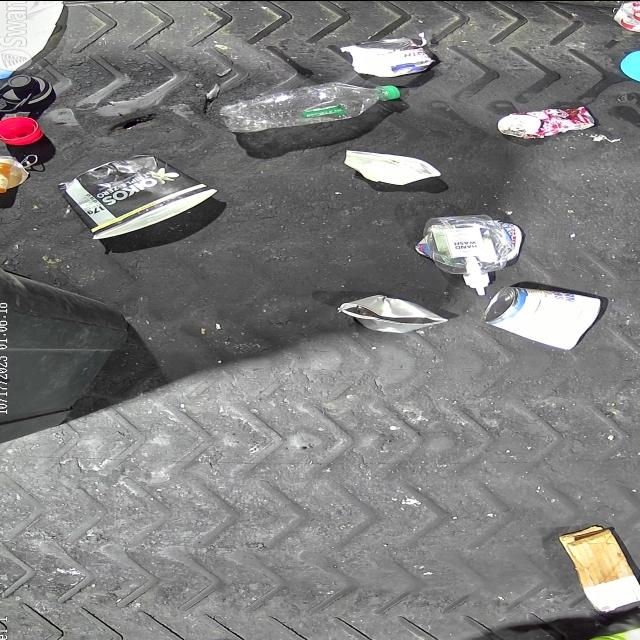can: (481, 284, 603, 350), (336, 294, 448, 333), (497, 104, 596, 138), (348, 38, 432, 76), (610, 0, 640, 36)
milk_jug: (0, 0, 64, 79)
plastic_bottle: (218, 82, 400, 132)
